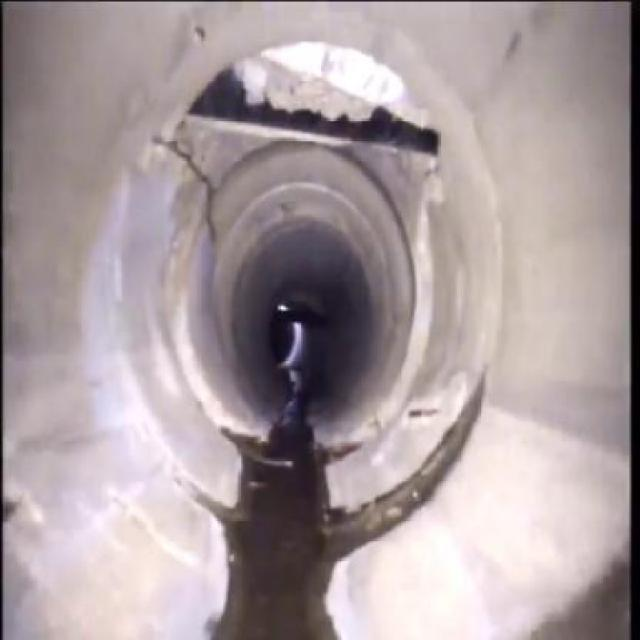Crack: (145, 137, 223, 251)
Utility intrusion: (188, 40, 443, 158)
